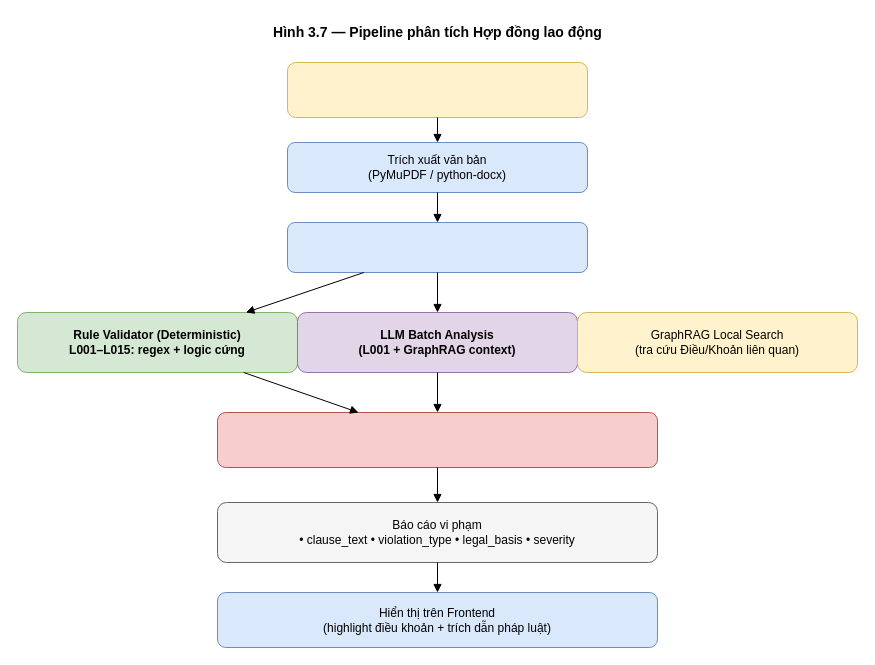
The diagram is 875 pixels wide and 665 high, and some of its shapes have lost their labels. The centre of each missing label's shape, as x and y in pixels:
"Hợp nhất kết quả VR + LLM (dedup, ưu tiên VR cho rule cứng)" belongs at (437,440).
"Segmentation (LLM) Chia thành các điều khoản" belongs at (437,247).
"Upload file HĐLĐ (.pdf / .docx / .txt)" belongs at (437,90).
